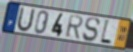0: (33, 10, 50, 36)
4: (50, 12, 64, 38)
L: (99, 18, 113, 47)
R: (64, 15, 85, 40)
S: (81, 17, 101, 43)
U: (15, 6, 36, 33)
